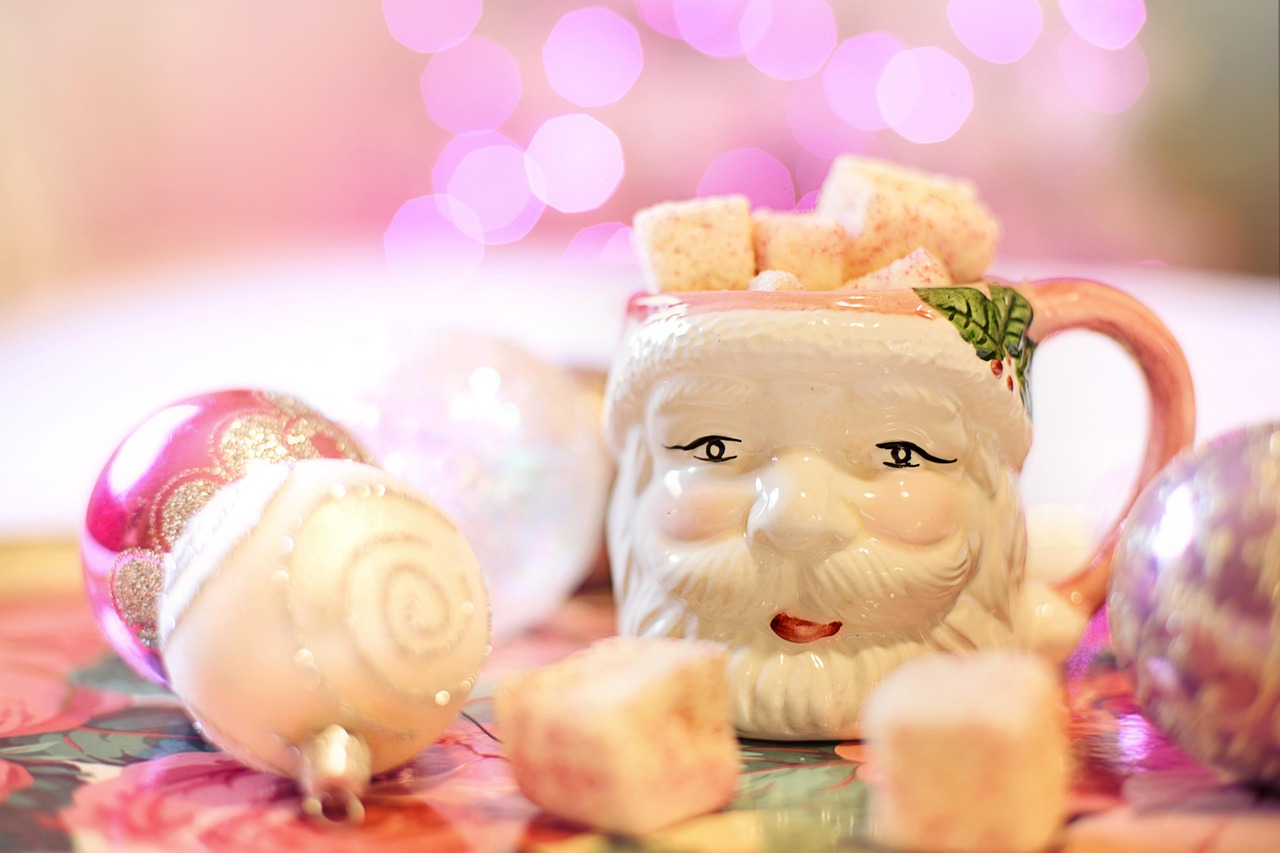mug: (533, 164, 1265, 801)
